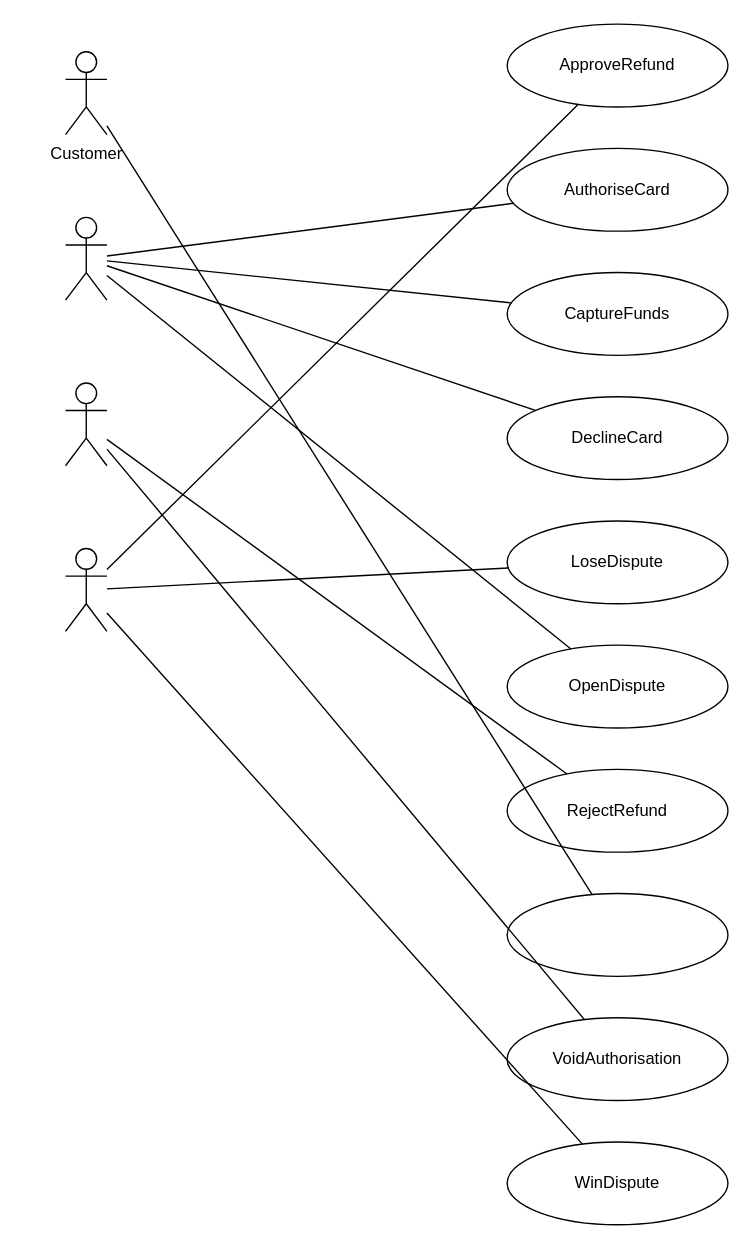
Some shapes in this 752 by 1249 pixel diagram are drawn without their labels. The shapes that lost their labels are listed below. From the top down, each one's centre as x and y in pixels, then its label:
At [85,258]: "Gateway".
At [85,424]: "SupportRep".
At [85,589]: "FinanceApprover".
At [617,934]: "RequestRefund".
